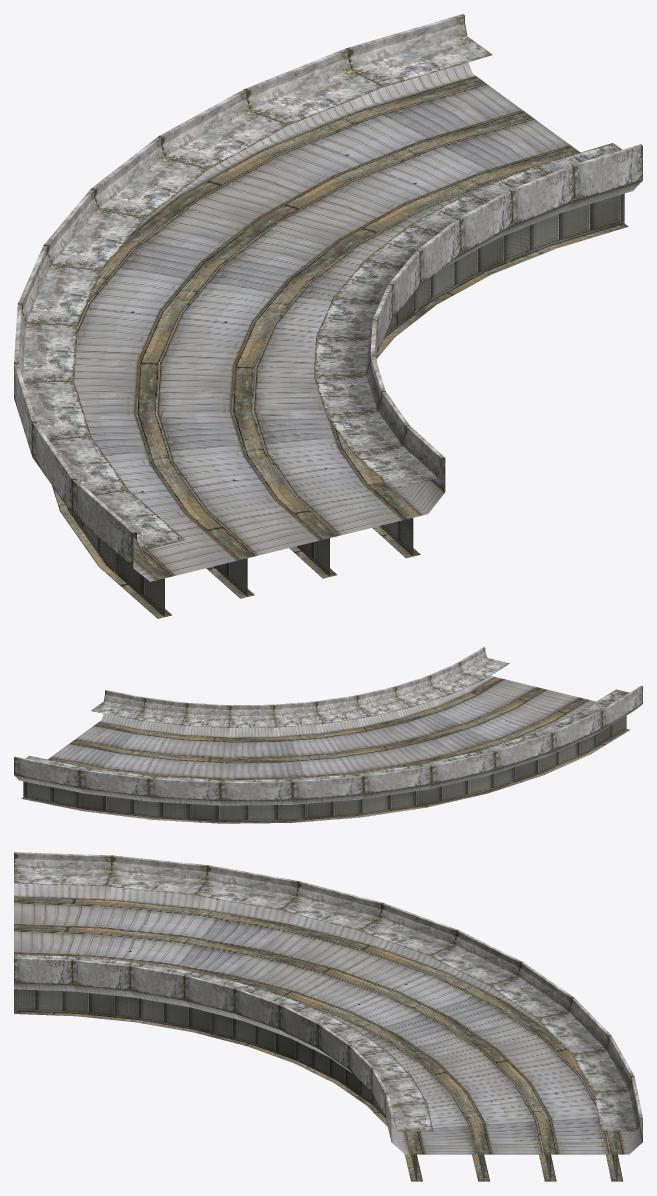
Rendered from Bridge-LongR.fbx.
The picture shows the model from 3 angles, top to bottom: view 1: azimuth 30°, elevation 25°; view 2: azimuth 150°, elevation 25°; view 3: azimuth 270°, elevation 25°; orthographic projection. The views are drawn at different scales.
Parts seen in each view (by area): view 1: Bridge-LongR; view 2: Bridge-LongR; view 3: Bridge-LongR.
Boxes of the visible parts, box(x1,y1,x2,y2) form: Bridge-LongR: box(14, 14, 642, 618); Bridge-LongR: box(14, 647, 642, 823); Bridge-LongR: box(14, 852, 642, 1181).
Bounding box in the file's own units: 5250 × 587 × 5250.
